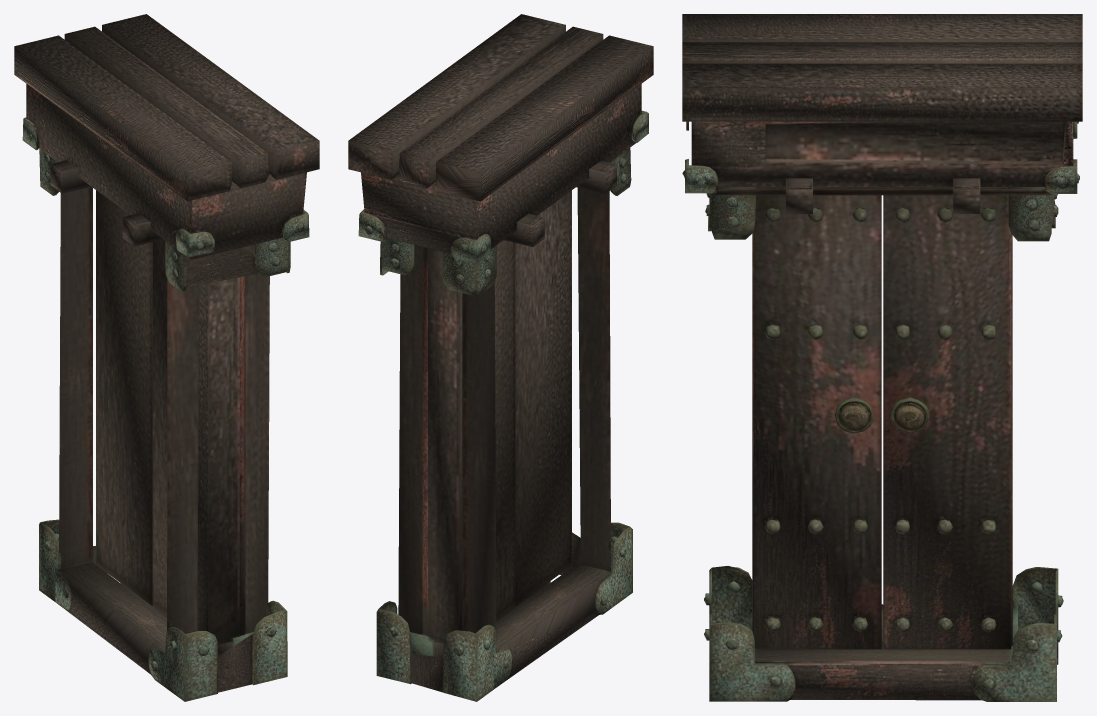
The model's file is tripo_convert_07d6365e-1936-4348-9e9b-1a5803960bb1.fbx.
3 views of the same model, side by side, from view 1: azimuth 30°, elevation 25°; view 2: azimuth 150°, elevation 25°; view 3: azimuth 270°, elevation 25° (orthographic). The views are drawn at different scales.
Parts seen in each view (by area): view 1: tripo_node_07d6365e; view 2: tripo_node_07d6365e; view 3: tripo_node_07d6365e.
Part boxes in pixels (x1,y1,x2,y2): tripo_node_07d6365e: (14, 14, 319, 701); tripo_node_07d6365e: (348, 14, 653, 701); tripo_node_07d6365e: (682, 14, 1082, 701).
Size of the model in its own units: 0.2871 by 0.998 by 0.5801.
1 material, 1 textured.
